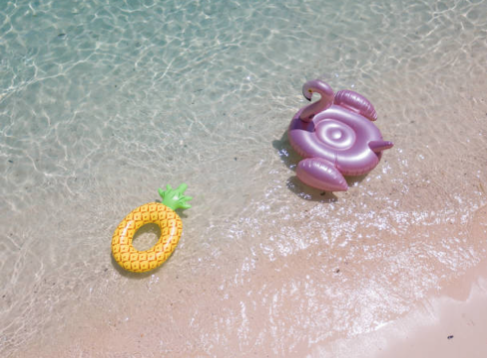Flamingo: (285, 78, 394, 198)
